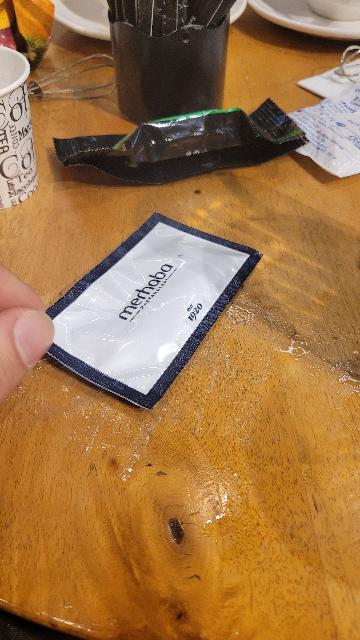Plastik: (48, 207, 253, 419), (40, 92, 320, 193)
